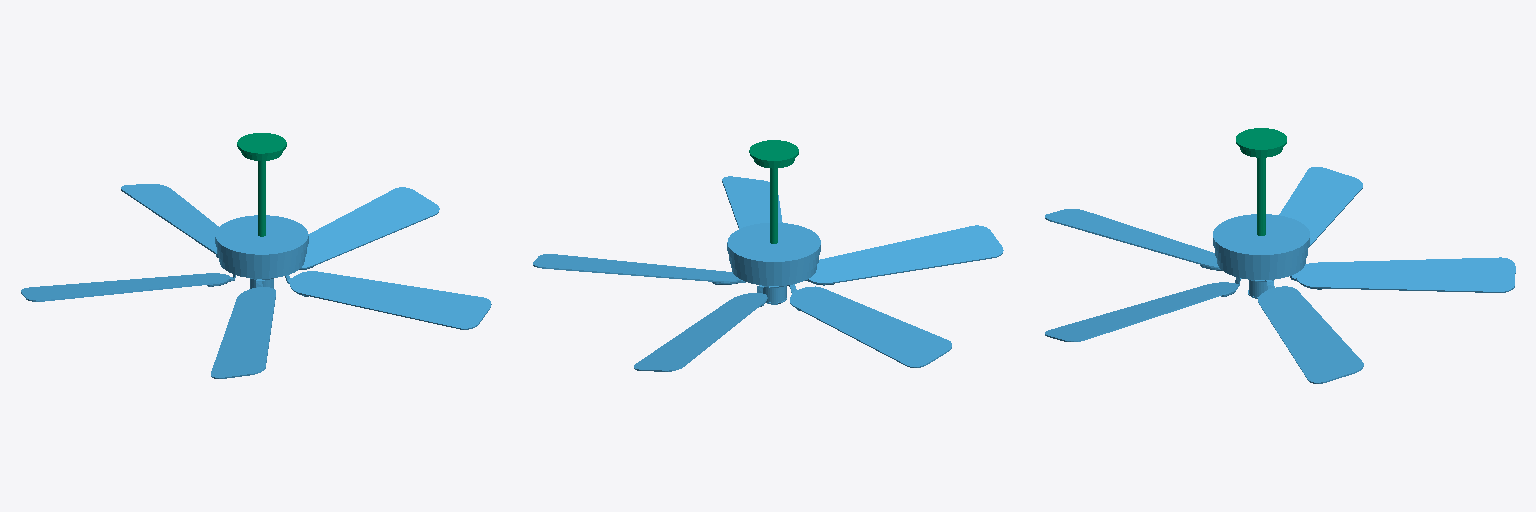
robot.urdf — partnet_217f260774a8af66e80df3c23687288a:
<?xml version="1.0" ?>
<robot name="partnet_217f260774a8af66e80df3c23687288a">
	<link name="base"/>
	<link name="link_0">
		<visual name="fan-1">
			<origin xyz="-0.010836499999999999 0 -0.005520999999999998"/>
			<geometry>
				<mesh filename="textured_objs/original-6.obj"/>
			</geometry>
		</visual>
		<visual name="fan-1">
			<origin xyz="-0.010836499999999999 0 -0.005520999999999998"/>
			<geometry>
				<mesh filename="textured_objs/original-2.obj"/>
			</geometry>
		</visual>
		<visual name="fan-1">
			<origin xyz="-0.010836499999999999 0 -0.005520999999999998"/>
			<geometry>
				<mesh filename="textured_objs/original-14.obj"/>
			</geometry>
		</visual>
		<visual name="fan-1">
			<origin xyz="-0.010836499999999999 0 -0.005520999999999998"/>
			<geometry>
				<mesh filename="textured_objs/original-5.obj"/>
			</geometry>
		</visual>
		<visual name="fan-1">
			<origin xyz="-0.010836499999999999 0 -0.005520999999999998"/>
			<geometry>
				<mesh filename="textured_objs/original-3.obj"/>
			</geometry>
		</visual>
		<visual name="fan-1">
			<origin xyz="-0.010836499999999999 0 -0.005520999999999998"/>
			<geometry>
				<mesh filename="textured_objs/original-4.obj"/>
			</geometry>
		</visual>
		<visual name="fan-1">
			<origin xyz="-0.010836499999999999 0 -0.005520999999999998"/>
			<geometry>
				<mesh filename="textured_objs/original-12.obj"/>
			</geometry>
		</visual>
		<visual name="fan-1">
			<origin xyz="-0.010836499999999999 0 -0.005520999999999998"/>
			<geometry>
				<mesh filename="textured_objs/original-59.obj"/>
			</geometry>
		</visual>
		<visual name="fan-1">
			<origin xyz="-0.010836499999999999 0 -0.005520999999999998"/>
			<geometry>
				<mesh filename="textured_objs/original-57.obj"/>
			</geometry>
		</visual>
		<visual name="fan-1">
			<origin xyz="-0.010836499999999999 0 -0.005520999999999998"/>
			<geometry>
				<mesh filename="textured_objs/original-8.obj"/>
			</geometry>
		</visual>
		<visual name="fan-1">
			<origin xyz="-0.010836499999999999 0 -0.005520999999999998"/>
			<geometry>
				<mesh filename="textured_objs/original-9.obj"/>
			</geometry>
		</visual>
		<visual name="fan-1">
			<origin xyz="-0.010836499999999999 0 -0.005520999999999998"/>
			<geometry>
				<mesh filename="textured_objs/original-56.obj"/>
			</geometry>
		</visual>
		<visual name="fan-1">
			<origin xyz="-0.010836499999999999 0 -0.005520999999999998"/>
			<geometry>
				<mesh filename="textured_objs/original-11.obj"/>
			</geometry>
		</visual>
		<visual name="fan-1">
			<origin xyz="-0.010836499999999999 0 -0.005520999999999998"/>
			<geometry>
				<mesh filename="textured_objs/original-58.obj"/>
			</geometry>
		</visual>
		<visual name="fan-1">
			<origin xyz="-0.010836499999999999 0 -0.005520999999999998"/>
			<geometry>
				<mesh filename="textured_objs/original-65.obj"/>
			</geometry>
		</visual>
		<visual name="fan-1">
			<origin xyz="-0.010836499999999999 0 -0.005520999999999998"/>
			<geometry>
				<mesh filename="textured_objs/original-20.obj"/>
			</geometry>
		</visual>
		<visual name="fan-1">
			<origin xyz="-0.010836499999999999 0 -0.005520999999999998"/>
			<geometry>
				<mesh filename="textured_objs/original-64.obj"/>
			</geometry>
		</visual>
		<visual name="fan-1">
			<origin xyz="-0.010836499999999999 0 -0.005520999999999998"/>
			<geometry>
				<mesh filename="textured_objs/original-21.obj"/>
			</geometry>
		</visual>
		<visual name="fan-1">
			<origin xyz="-0.010836499999999999 0 -0.005520999999999998"/>
			<geometry>
				<mesh filename="textured_objs/original-18.obj"/>
			</geometry>
		</visual>
		<visual name="fan-1">
			<origin xyz="-0.010836499999999999 0 -0.005520999999999998"/>
			<geometry>
				<mesh filename="textured_objs/original-62.obj"/>
			</geometry>
		</visual>
		<visual name="fan-1">
			<origin xyz="-0.010836499999999999 0 -0.005520999999999998"/>
			<geometry>
				<mesh filename="textured_objs/original-63.obj"/>
			</geometry>
		</visual>
		<visual name="fan-1">
			<origin xyz="-0.010836499999999999 0 -0.005520999999999998"/>
			<geometry>
				<mesh filename="textured_objs/original-17.obj"/>
			</geometry>
		</visual>
		<visual name="fan-1">
			<origin xyz="-0.010836499999999999 0 -0.005520999999999998"/>
			<geometry>
				<mesh filename="textured_objs/original-61.obj"/>
			</geometry>
		</visual>
		<visual name="fan-1">
			<origin xyz="-0.010836499999999999 0 -0.005520999999999998"/>
			<geometry>
				<mesh filename="textured_objs/original-15.obj"/>
			</geometry>
		</visual>
		<visual name="fan-1">
			<origin xyz="-0.010836499999999999 0 -0.005520999999999998"/>
			<geometry>
				<mesh filename="textured_objs/original-60.obj"/>
			</geometry>
		</visual>
		<visual name="fan-1">
			<origin xyz="-0.010836499999999999 0 -0.005520999999999998"/>
			<geometry>
				<mesh filename="textured_objs/original-32.obj"/>
			</geometry>
		</visual>
		<visual name="fan-1">
			<origin xyz="-0.010836499999999999 0 -0.005520999999999998"/>
			<geometry>
				<mesh filename="textured_objs/original-33.obj"/>
			</geometry>
		</visual>
		<visual name="fan-1">
			<origin xyz="-0.010836499999999999 0 -0.005520999999999998"/>
			<geometry>
				<mesh filename="textured_objs/original-34.obj"/>
			</geometry>
		</visual>
		<visual name="fan-1">
			<origin xyz="-0.010836499999999999 0 -0.005520999999999998"/>
			<geometry>
				<mesh filename="textured_objs/original-47.obj"/>
			</geometry>
		</visual>
		<visual name="fan-1">
			<origin xyz="-0.010836499999999999 0 -0.005520999999999998"/>
			<geometry>
				<mesh filename="textured_objs/original-49.obj"/>
			</geometry>
		</visual>
		<visual name="fan-1">
			<origin xyz="-0.010836499999999999 0 -0.005520999999999998"/>
			<geometry>
				<mesh filename="textured_objs/original-42.obj"/>
			</geometry>
		</visual>
		<visual name="fan-1">
			<origin xyz="-0.010836499999999999 0 -0.005520999999999998"/>
			<geometry>
				<mesh filename="textured_objs/original-36.obj"/>
			</geometry>
		</visual>
		<visual name="fan-1">
			<origin xyz="-0.010836499999999999 0 -0.005520999999999998"/>
			<geometry>
				<mesh filename="textured_objs/original-35.obj"/>
			</geometry>
		</visual>
		<visual name="fan-1">
			<origin xyz="-0.010836499999999999 0 -0.005520999999999998"/>
			<geometry>
				<mesh filename="textured_objs/original-37.obj"/>
			</geometry>
		</visual>
		<visual name="fan-1">
			<origin xyz="-0.010836499999999999 0 -0.005520999999999998"/>
			<geometry>
				<mesh filename="textured_objs/original-38.obj"/>
			</geometry>
		</visual>
		<visual name="fan-1">
			<origin xyz="-0.010836499999999999 0 -0.005520999999999998"/>
			<geometry>
				<mesh filename="textured_objs/original-39.obj"/>
			</geometry>
		</visual>
		<visual name="fan-1">
			<origin xyz="-0.010836499999999999 0 -0.005520999999999998"/>
			<geometry>
				<mesh filename="textured_objs/original-40.obj"/>
			</geometry>
		</visual>
		<visual name="fan-1">
			<origin xyz="-0.010836499999999999 0 -0.005520999999999998"/>
			<geometry>
				<mesh filename="textured_objs/original-23.obj"/>
			</geometry>
		</visual>
		<visual name="fan-1">
			<origin xyz="-0.010836499999999999 0 -0.005520999999999998"/>
			<geometry>
				<mesh filename="textured_objs/original-24.obj"/>
			</geometry>
		</visual>
		<visual name="fan-1">
			<origin xyz="-0.010836499999999999 0 -0.005520999999999998"/>
			<geometry>
				<mesh filename="textured_objs/original-25.obj"/>
			</geometry>
		</visual>
		<visual name="fan-1">
			<origin xyz="-0.010836499999999999 0 -0.005520999999999998"/>
			<geometry>
				<mesh filename="textured_objs/original-26.obj"/>
			</geometry>
		</visual>
		<visual name="fan-1">
			<origin xyz="-0.010836499999999999 0 -0.005520999999999998"/>
			<geometry>
				<mesh filename="textured_objs/original-27.obj"/>
			</geometry>
		</visual>
		<visual name="fan-1">
			<origin xyz="-0.010836499999999999 0 -0.005520999999999998"/>
			<geometry>
				<mesh filename="textured_objs/original-28.obj"/>
			</geometry>
		</visual>
		<visual name="fan-1">
			<origin xyz="-0.010836499999999999 0 -0.005520999999999998"/>
			<geometry>
				<mesh filename="textured_objs/original-29.obj"/>
			</geometry>
		</visual>
		<visual name="fan-1">
			<origin xyz="-0.010836499999999999 0 -0.005520999999999998"/>
			<geometry>
				<mesh filename="textured_objs/original-53.obj"/>
			</geometry>
		</visual>
		<visual name="fan-1">
			<origin xyz="-0.010836499999999999 0 -0.005520999999999998"/>
			<geometry>
				<mesh filename="textured_objs/original-30.obj"/>
			</geometry>
		</visual>
		<visual name="fan-1">
			<origin xyz="-0.010836499999999999 0 -0.005520999999999998"/>
			<geometry>
				<mesh filename="textured_objs/original-31.obj"/>
			</geometry>
		</visual>
		<visual name="fan-1">
			<origin xyz="-0.010836499999999999 0 -0.005520999999999998"/>
			<geometry>
				<mesh filename="textured_objs/original-46.obj"/>
			</geometry>
		</visual>
		<visual name="fan-1">
			<origin xyz="-0.010836499999999999 0 -0.005520999999999998"/>
			<geometry>
				<mesh filename="textured_objs/original-45.obj"/>
			</geometry>
		</visual>
		<visual name="fan-1">
			<origin xyz="-0.010836499999999999 0 -0.005520999999999998"/>
			<geometry>
				<mesh filename="textured_objs/original-44.obj"/>
			</geometry>
		</visual>
		<visual name="fan-1">
			<origin xyz="-0.010836499999999999 0 -0.005520999999999998"/>
			<geometry>
				<mesh filename="textured_objs/original-43.obj"/>
			</geometry>
		</visual>
		<visual name="fan-1">
			<origin xyz="-0.010836499999999999 0 -0.005520999999999998"/>
			<geometry>
				<mesh filename="textured_objs/original-51.obj"/>
			</geometry>
		</visual>
		<visual name="fan-1">
			<origin xyz="-0.010836499999999999 0 -0.005520999999999998"/>
			<geometry>
				<mesh filename="textured_objs/original-50.obj"/>
			</geometry>
		</visual>
		<visual name="fan-1">
			<origin xyz="-0.010836499999999999 0 -0.005520999999999998"/>
			<geometry>
				<mesh filename="textured_objs/original-48.obj"/>
			</geometry>
		</visual>
		<collision>
			<origin xyz="-0.010836499999999999 0 -0.005520999999999998"/>
			<geometry>
				<mesh filename="textured_objs/original-6.obj"/>
			</geometry>
		</collision>
		<collision>
			<origin xyz="-0.010836499999999999 0 -0.005520999999999998"/>
			<geometry>
				<mesh filename="textured_objs/original-2.obj"/>
			</geometry>
		</collision>
		<collision>
			<origin xyz="-0.010836499999999999 0 -0.005520999999999998"/>
			<geometry>
				<mesh filename="textured_objs/original-14.obj"/>
			</geometry>
		</collision>
		<collision>
			<origin xyz="-0.010836499999999999 0 -0.005520999999999998"/>
			<geometry>
				<mesh filename="textured_objs/original-5.obj"/>
			</geometry>
		</collision>
		<collision>
			<origin xyz="-0.010836499999999999 0 -0.005520999999999998"/>
			<geometry>
				<mesh filename="textured_objs/original-3.obj"/>
			</geometry>
		</collision>
		<collision>
			<origin xyz="-0.010836499999999999 0 -0.005520999999999998"/>
			<geometry>
				<mesh filename="textured_objs/original-4.obj"/>
			</geometry>
		</collision>
		<collision>
			<origin xyz="-0.010836499999999999 0 -0.005520999999999998"/>
			<geometry>
				<mesh filename="textured_objs/original-12.obj"/>
			</geometry>
		</collision>
		<collision>
			<origin xyz="-0.010836499999999999 0 -0.005520999999999998"/>
			<geometry>
				<mesh filename="textured_objs/original-59.obj"/>
			</geometry>
		</collision>
		<collision>
			<origin xyz="-0.010836499999999999 0 -0.005520999999999998"/>
			<geometry>
				<mesh filename="textured_objs/original-57.obj"/>
			</geometry>
		</collision>
		<collision>
			<origin xyz="-0.010836499999999999 0 -0.005520999999999998"/>
			<geometry>
				<mesh filename="textured_objs/original-8.obj"/>
			</geometry>
		</collision>
		<collision>
			<origin xyz="-0.010836499999999999 0 -0.005520999999999998"/>
			<geometry>
				<mesh filename="textured_objs/original-9.obj"/>
			</geometry>
		</collision>
		<collision>
			<origin xyz="-0.010836499999999999 0 -0.005520999999999998"/>
			<geometry>
				<mesh filename="textured_objs/original-56.obj"/>
			</geometry>
		</collision>
		<collision>
			<origin xyz="-0.010836499999999999 0 -0.005520999999999998"/>
			<geometry>
				<mesh filename="textured_objs/original-11.obj"/>
			</geometry>
		</collision>
		<collision>
			<origin xyz="-0.010836499999999999 0 -0.005520999999999998"/>
			<geometry>
				<mesh filename="textured_objs/original-58.obj"/>
			</geometry>
		</collision>
		<collision>
			<origin xyz="-0.010836499999999999 0 -0.005520999999999998"/>
			<geometry>
				<mesh filename="textured_objs/original-65.obj"/>
			</geometry>
		</collision>
		<collision>
			<origin xyz="-0.010836499999999999 0 -0.005520999999999998"/>
			<geometry>
				<mesh filename="textured_objs/original-20.obj"/>
			</geometry>
		</collision>
		<collision>
			<origin xyz="-0.010836499999999999 0 -0.005520999999999998"/>
			<geometry>
				<mesh filename="textured_objs/original-64.obj"/>
			</geometry>
		</collision>
		<collision>
			<origin xyz="-0.010836499999999999 0 -0.005520999999999998"/>
			<geometry>
				<mesh filename="textured_objs/original-21.obj"/>
			</geometry>
		</collision>
		<collision>
			<origin xyz="-0.010836499999999999 0 -0.005520999999999998"/>
			<geometry>
				<mesh filename="textured_objs/original-18.obj"/>
			</geometry>
		</collision>
		<collision>
			<origin xyz="-0.010836499999999999 0 -0.005520999999999998"/>
			<geometry>
				<mesh filename="textured_objs/original-62.obj"/>
			</geometry>
		</collision>
		<collision>
			<origin xyz="-0.010836499999999999 0 -0.005520999999999998"/>
			<geometry>
				<mesh filename="textured_objs/original-63.obj"/>
			</geometry>
		</collision>
		<collision>
			<origin xyz="-0.010836499999999999 0 -0.005520999999999998"/>
			<geometry>
				<mesh filename="textured_objs/original-17.obj"/>
			</geometry>
		</collision>
		<collision>
			<origin xyz="-0.010836499999999999 0 -0.005520999999999998"/>
			<geometry>
				<mesh filename="textured_objs/original-61.obj"/>
			</geometry>
		</collision>
		<collision>
			<origin xyz="-0.010836499999999999 0 -0.005520999999999998"/>
			<geometry>
				<mesh filename="textured_objs/original-15.obj"/>
			</geometry>
		</collision>
		<collision>
			<origin xyz="-0.010836499999999999 0 -0.005520999999999998"/>
			<geometry>
				<mesh filename="textured_objs/original-60.obj"/>
			</geometry>
		</collision>
		<collision>
			<origin xyz="-0.010836499999999999 0 -0.005520999999999998"/>
			<geometry>
				<mesh filename="textured_objs/original-32.obj"/>
			</geometry>
		</collision>
		<collision>
			<origin xyz="-0.010836499999999999 0 -0.005520999999999998"/>
			<geometry>
				<mesh filename="textured_objs/original-33.obj"/>
			</geometry>
		</collision>
		<collision>
			<origin xyz="-0.010836499999999999 0 -0.005520999999999998"/>
			<geometry>
				<mesh filename="textured_objs/original-34.obj"/>
			</geometry>
		</collision>
		<collision>
			<origin xyz="-0.010836499999999999 0 -0.005520999999999998"/>
			<geometry>
				<mesh filename="textured_objs/original-47.obj"/>
			</geometry>
		</collision>
		<collision>
			<origin xyz="-0.010836499999999999 0 -0.005520999999999998"/>
			<geometry>
				<mesh filename="textured_objs/original-49.obj"/>
			</geometry>
		</collision>
		<collision>
			<origin xyz="-0.010836499999999999 0 -0.005520999999999998"/>
			<geometry>
				<mesh filename="textured_objs/original-42.obj"/>
			</geometry>
		</collision>
		<collision>
			<origin xyz="-0.010836499999999999 0 -0.005520999999999998"/>
			<geometry>
				<mesh filename="textured_objs/original-36.obj"/>
			</geometry>
		</collision>
		<collision>
			<origin xyz="-0.010836499999999999 0 -0.005520999999999998"/>
			<geometry>
				<mesh filename="textured_objs/original-35.obj"/>
			</geometry>
		</collision>
		<collision>
			<origin xyz="-0.010836499999999999 0 -0.005520999999999998"/>
			<geometry>
				<mesh filename="textured_objs/original-37.obj"/>
			</geometry>
		</collision>
		<collision>
			<origin xyz="-0.010836499999999999 0 -0.005520999999999998"/>
			<geometry>
				<mesh filename="textured_objs/original-38.obj"/>
			</geometry>
		</collision>
		<collision>
			<origin xyz="-0.010836499999999999 0 -0.005520999999999998"/>
			<geometry>
				<mesh filename="textured_objs/original-39.obj"/>
			</geometry>
		</collision>
		<collision>
			<origin xyz="-0.010836499999999999 0 -0.005520999999999998"/>
			<geometry>
				<mesh filename="textured_objs/original-40.obj"/>
			</geometry>
		</collision>
		<collision>
			<origin xyz="-0.010836499999999999 0 -0.005520999999999998"/>
			<geometry>
				<mesh filename="textured_objs/original-23.obj"/>
			</geometry>
		</collision>
		<collision>
			<origin xyz="-0.010836499999999999 0 -0.005520999999999998"/>
			<geometry>
				<mesh filename="textured_objs/original-24.obj"/>
			</geometry>
		</collision>
		<collision>
			<origin xyz="-0.010836499999999999 0 -0.005520999999999998"/>
			<geometry>
				<mesh filename="textured_objs/original-25.obj"/>
			</geometry>
		</collision>
		<collision>
			<origin xyz="-0.010836499999999999 0 -0.005520999999999998"/>
			<geometry>
				<mesh filename="textured_objs/original-26.obj"/>
			</geometry>
		</collision>
		<collision>
			<origin xyz="-0.010836499999999999 0 -0.005520999999999998"/>
			<geometry>
				<mesh filename="textured_objs/original-27.obj"/>
			</geometry>
		</collision>
		<collision>
			<origin xyz="-0.010836499999999999 0 -0.005520999999999998"/>
			<geometry>
				<mesh filename="textured_objs/original-28.obj"/>
			</geometry>
		</collision>
		<collision>
			<origin xyz="-0.010836499999999999 0 -0.005520999999999998"/>
			<geometry>
				<mesh filename="textured_objs/original-29.obj"/>
			</geometry>
		</collision>
		<collision>
			<origin xyz="-0.010836499999999999 0 -0.005520999999999998"/>
			<geometry>
				<mesh filename="textured_objs/original-53.obj"/>
			</geometry>
		</collision>
		<collision>
			<origin xyz="-0.010836499999999999 0 -0.005520999999999998"/>
			<geometry>
				<mesh filename="textured_objs/original-30.obj"/>
			</geometry>
		</collision>
		<collision>
			<origin xyz="-0.010836499999999999 0 -0.005520999999999998"/>
			<geometry>
				<mesh filename="textured_objs/original-31.obj"/>
			</geometry>
		</collision>
		<collision>
			<origin xyz="-0.010836499999999999 0 -0.005520999999999998"/>
			<geometry>
				<mesh filename="textured_objs/original-46.obj"/>
			</geometry>
		</collision>
		<collision>
			<origin xyz="-0.010836499999999999 0 -0.005520999999999998"/>
			<geometry>
				<mesh filename="textured_objs/original-45.obj"/>
			</geometry>
		</collision>
		<collision>
			<origin xyz="-0.010836499999999999 0 -0.005520999999999998"/>
			<geometry>
				<mesh filename="textured_objs/original-44.obj"/>
			</geometry>
		</collision>
		<collision>
			<origin xyz="-0.010836499999999999 0 -0.005520999999999998"/>
			<geometry>
				<mesh filename="textured_objs/original-43.obj"/>
			</geometry>
		</collision>
		<collision>
			<origin xyz="-0.010836499999999999 0 -0.005520999999999998"/>
			<geometry>
				<mesh filename="textured_objs/original-51.obj"/>
			</geometry>
		</collision>
		<collision>
			<origin xyz="-0.010836499999999999 0 -0.005520999999999998"/>
			<geometry>
				<mesh filename="textured_objs/original-50.obj"/>
			</geometry>
		</collision>
		<collision>
			<origin xyz="-0.010836499999999999 0 -0.005520999999999998"/>
			<geometry>
				<mesh filename="textured_objs/original-48.obj"/>
			</geometry>
		</collision>
	</link>
	<joint name="joint_0" type="continuous">
		<origin xyz="0.010836499999999999 0 0.005520999999999998"/>
		<axis xyz="0 1 0"/>
		<child link="link_0"/>
		<parent link="link_1"/>
	</joint>
	<link name="link_1">
		<visual name="base_body-2">
			<origin xyz="0 0 0"/>
			<geometry>
				<mesh filename="textured_objs/original-54.obj"/>
			</geometry>
		</visual>
		<visual name="base_body-2">
			<origin xyz="0 0 0"/>
			<geometry>
				<mesh filename="textured_objs/original-55.obj"/>
			</geometry>
		</visual>
		<visual name="base_body-2">
			<origin xyz="0 0 0"/>
			<geometry>
				<mesh filename="textured_objs/original-1.obj"/>
			</geometry>
		</visual>
		<collision>
			<origin xyz="0 0 0"/>
			<geometry>
				<mesh filename="textured_objs/original-54.obj"/>
			</geometry>
		</collision>
		<collision>
			<origin xyz="0 0 0"/>
			<geometry>
				<mesh filename="textured_objs/original-55.obj"/>
			</geometry>
		</collision>
		<collision>
			<origin xyz="0 0 0"/>
			<geometry>
				<mesh filename="textured_objs/original-1.obj"/>
			</geometry>
		</collision>
	</link>
	<joint name="joint_1" type="fixed">
		<origin rpy="1.570796326794897 0 -1.570796326794897" xyz="0 0 0"/>
		<child link="link_1"/>
		<parent link="base"/>
	</joint>
</robot>

--- Render facts (derived) ---
The picture shows the robot from 3 angles, left to right: view 1: azimuth 30°, elevation 25°; view 2: azimuth 150°, elevation 25°; view 3: azimuth 270°, elevation 25°; orthographic projection.
Robot: partnet_217f260774a8af66e80df3c23687288a — 3 links, 2 joints (1 continuous, 1 fixed); root link base; default pose: every joint at zero.
Links seen in each view (by area): view 1: link_0, link_1; view 2: link_0, link_1; view 3: link_0, link_1.
Boxes of the visible links, <box> form: link_0: <box>21,184,491,378</box>; link_1: <box>237,133,286,236</box>; link_0: <box>533,176,1003,371</box>; link_1: <box>749,140,798,243</box>; link_0: <box>1045,167,1515,383</box>; link_1: <box>1236,128,1286,235</box>.
Bounding box of the posed robot: 1.94 × 1.85 × 0.693 m (x, y, z).
57 mesh visuals loaded from 57 distinct referenced files (57 OBJ).
